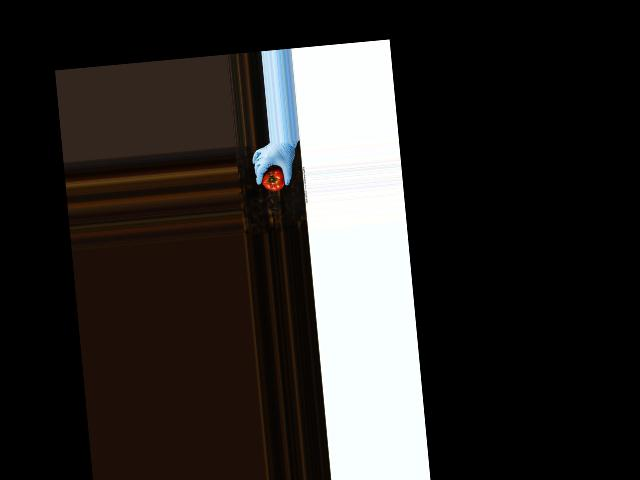tomato: (261, 165, 285, 192)
